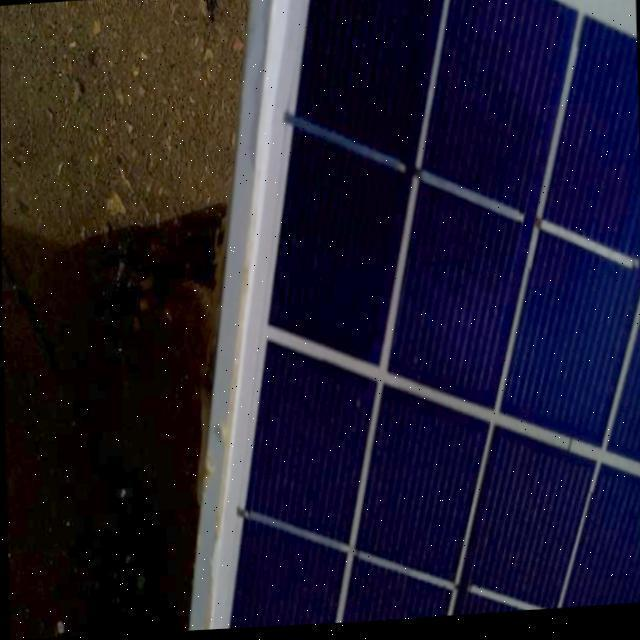Normal Solar Panel: (173, 0, 640, 633)
